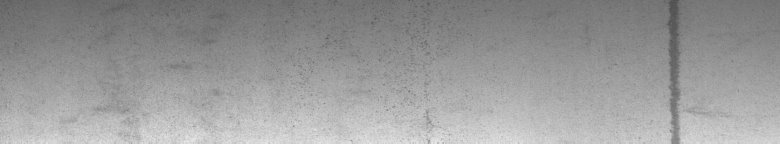hd: (664, 4, 709, 136)
